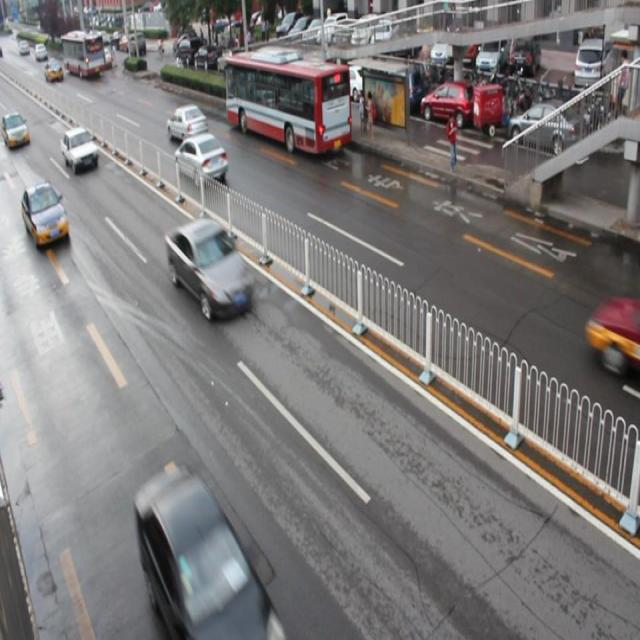car: (136, 463, 274, 640), (165, 216, 256, 320), (22, 181, 70, 248), (175, 132, 228, 187), (62, 126, 100, 172), (166, 104, 209, 144)
van: (225, 53, 350, 153)
